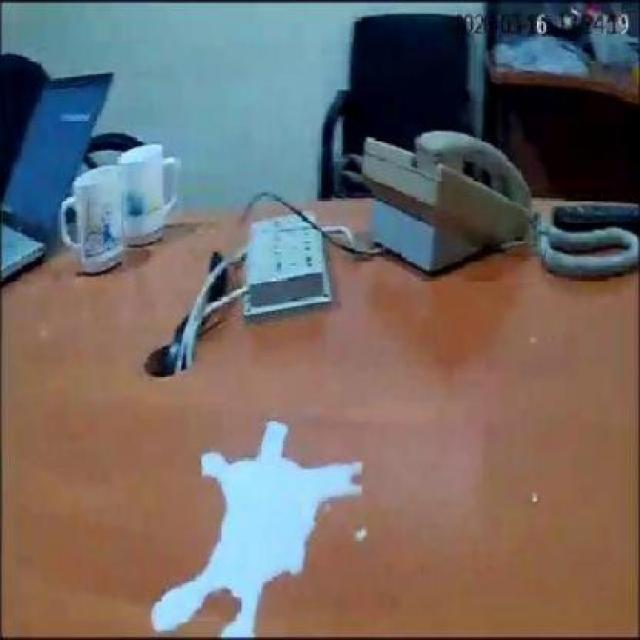spillage: (150, 420, 363, 637)
